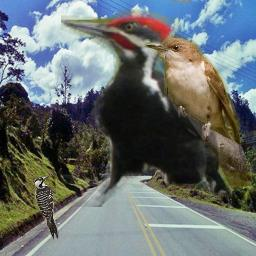Cuckoo: (143, 34, 252, 191)
Woodpecker: (61, 2, 233, 207), (34, 175, 59, 240)
